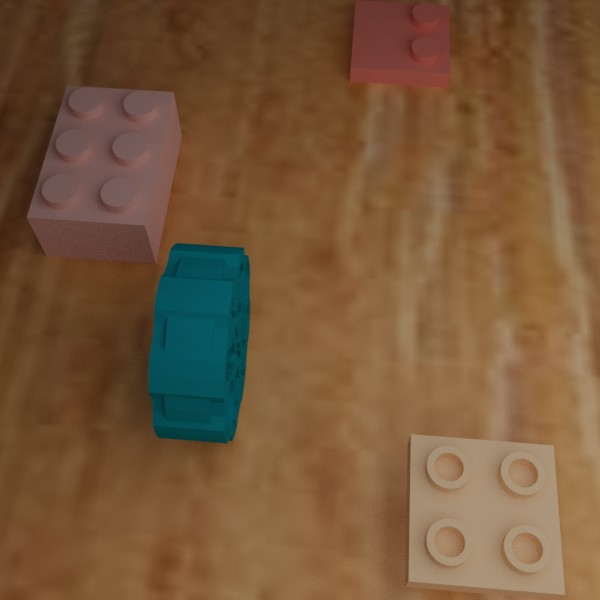lego: (26, 85, 182, 263), (405, 434, 565, 600), (148, 242, 250, 443), (349, 0, 450, 87)
